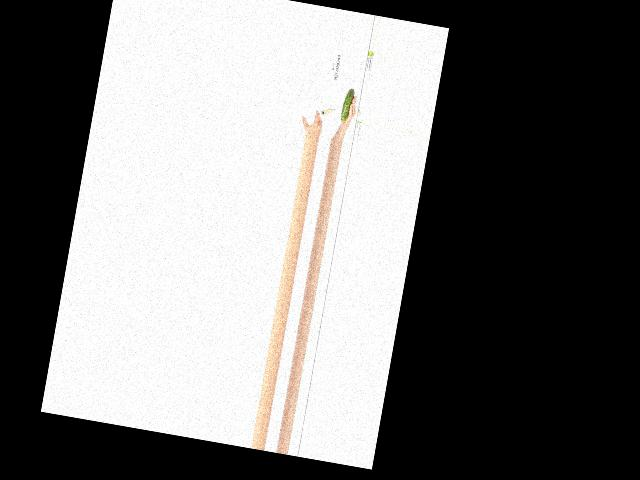cucumber: (340, 87, 355, 122)
